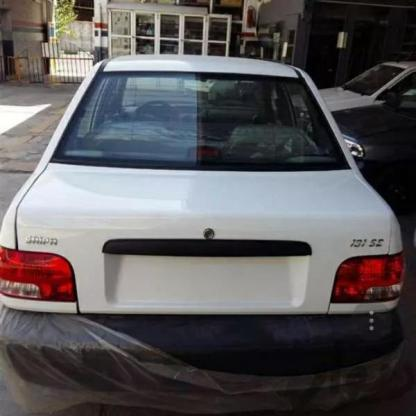Car: (0, 52, 408, 403), (299, 59, 416, 158), (323, 90, 416, 193)
